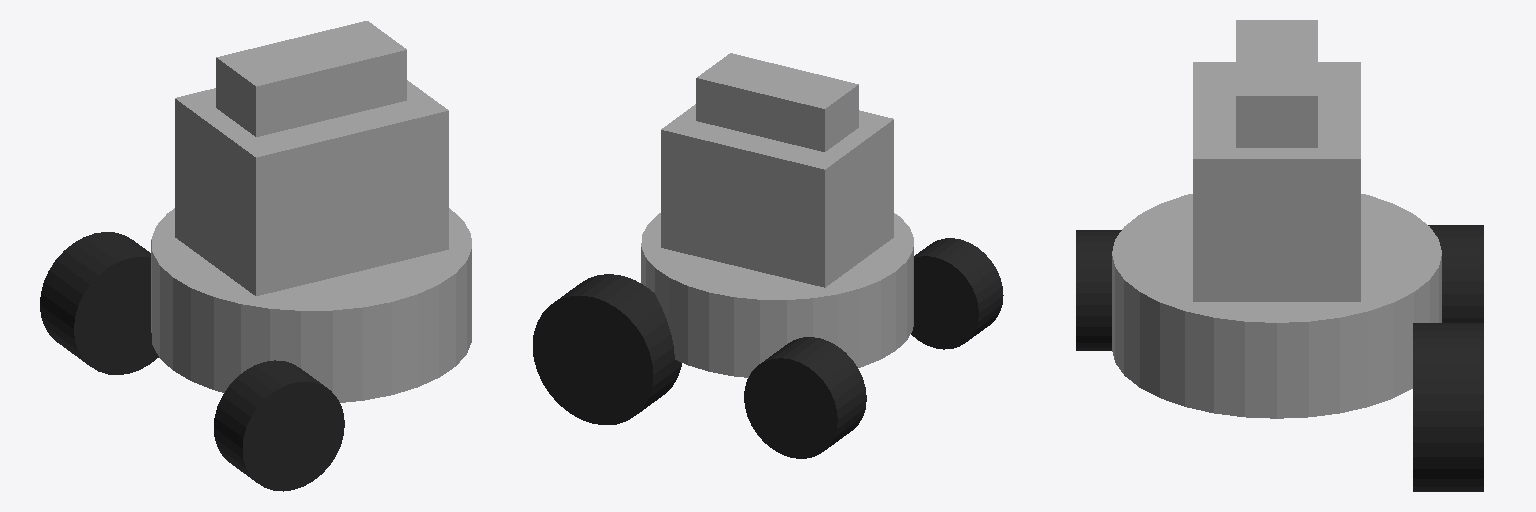
The robot description file, URDF, robot "evolved_robot":
<?xml version="1.0"?>
<robot name="evolved_robot">
  <material name="metal">
    <color rgba="0.7 0.7 0.7 1.0"/>
  </material>
  <material name="plastic">
    <color rgba="0.3 0.3 0.9 1.0"/>
  </material>
  <material name="rubber">
    <color rgba="0.1 0.1 0.1 1.0"/>
  </material>
  <material name="red">
    <color rgba="1.0 0.0 0.0 1.0"/>
  </material>
  <material name="wheel_material">
    <color rgba="0.2 0.2 0.2 1.0"/>
  </material>
  <link name="base_link">
    <visual>
      <geometry><cylinder radius="0.15991811036551018" length="0.1023509380452807"/></geometry>
      <material name="metal"/>
    </visual>
    <collision>
      <geometry><cylinder radius="0.15991811036551018" length="0.1023509380452807"/></geometry>
    </collision>
    <inertial>
      <mass value="5.0"/>
      <inertia ixx="0.07266426715614614" ixy="0" ixz="0" 
               iyy="0.07266426715614614" iyz="0" 
               izz="0.12786901011437746"/>
    </inertial>
  </link>
  <link name="link1">
    <visual>
      <geometry><box size="0.113441418210562 0.07945974443179676 0.23563188659145184"/></geometry>
      <material name="rubber"/>
    </visual>
    <collision>
      <geometry><box size="0.113441418210562 0.07945974443179676 0.23563188659145184"/></geometry>
    </collision>
    <inertial>
      <mass value="0.5"/>
      <inertia ixx="0.0051530197469844405" ixy="0" ixz="0" 
               iyy="0.0056992784453558714" iyz="0" 
               izz="0.0015985671958991738"/>
    </inertial>
  </link>
  <joint name="joint1" type="prismatic">
    <parent link="base_link"/>
    <child link="link1"/>
    <origin xyz="0 0 0.05117546902264035" rpy="0 0 0"/>
    <axis xyz="0.7413132133729508 0.48069321680617366 0.4683895291263493"/>
    <dynamics damping="0.23143663430366734" friction="0.1"/>
    <limit lower="-1.6182145099100538" upper="2.6608742781213874" effort="100" velocity="100"/>
  </joint>
  <link name="link2">
    <visual>
      <geometry><box size="0.22179826410941372 0.16207127394998422 0.20487811919291604"/></geometry>
      <material name="metal"/>
    </visual>
    <collision>
      <geometry><box size="0.22179826410941372 0.16207127394998422 0.20487811919291604"/></geometry>
    </collision>
    <inertial>
      <mass value="0.5"/>
      <inertia ixx="0.005686845130316462" ixy="0" ixz="0" 
               iyy="0.007597459473831329" iyz="0" 
               izz="0.006288463983476674"/>
    </inertial>
  </link>
  <joint name="joint2" type="floating">
    <parent link="base_link"/>
    <child link="link2"/>
    <origin xyz="0 0 0.10117546902264035" rpy="0 0 0"/>
    <axis xyz="-0.9341409314151112 0.3549378761105128 -0.03741422666669626"/>
    <dynamics damping="0.6410822183068076" friction="0.1"/>
  </joint>
  <link name="link3">
    <visual>
      <geometry>
        <cylinder radius="0.08166747481168654" length="0.06891363721656031"/>
      </geometry>
      <material name="wheel_material"/>
    </visual>
    <collision>
      <geometry>
        <cylinder radius="0.08166747481168654" length="0.06891363721656031"/>
      </geometry>
    </collision>
    <inertial>
      <mass value="1.0"/>
      <inertia ixx="0.0020631515600640043" ixy="0" ixz="0" 
               iyy="0.0020631515600640043" iyz="0" 
               izz="0.0033347882210587277"/>
    </inertial>
  </link>
  <joint name="joint3" type="continuous">
    <parent link="base_link"/>
    <child link="link3"/>
    <origin xyz="0.13346351956695493 0.16637270116406544 -0.05117546902264035" rpy="1.5708 0 0"/>
    <axis xyz="0 1 0"/>
    <dynamics damping="0.8588994804943139" friction="0.1"/>
  </joint>
  <link name="link4">
    <visual>
      <geometry>
        <cylinder radius="0.06337681127266628" length="0.06788191875677616"/>
      </geometry>
      <material name="wheel_material"/>
    </visual>
    <collision>
      <geometry>
        <cylinder radius="0.06337681127266628" length="0.06788191875677616"/>
      </geometry>
    </collision>
    <inertial>
      <mass value="1.0"/>
      <inertia ixx="0.00138815129294792" ixy="0" ixz="0" 
               iyy="0.00138815129294792" iyz="0" 
               izz="0.0020083101035455802"/>
    </inertial>
  </link>
  <joint name="joint4" type="continuous">
    <parent link="base_link"/>
    <child link="link4"/>
    <origin xyz="-0.13346351956695493 0.16637270116406544 -0.05117546902264035" rpy="1.5708 0 0"/>
    <axis xyz="0 1 0"/>
    <dynamics damping="0.6803936122012411" friction="0.1"/>
  </joint>
  <link name="link5">
    <visual>
      <geometry><box size="0.1735853947968115 0.0795026568640948 0.21633961171458604"/></geometry>
      <material name="metal"/>
    </visual>
    <collision>
      <geometry><box size="0.1735853947968115 0.0795026568640948 0.21633961171458604"/></geometry>
    </collision>
    <inertial>
      <mass value="0.5"/>
      <inertia ixx="0.004426958337105655" ixy="0" ixz="0" 
               iyy="0.006411226406965231" iyz="0" 
               izz="0.0030377134779345765"/>
    </inertial>
  </link>
  <joint name="joint5" type="fixed">
    <parent link="base_link"/>
    <child link="link5"/>
    <origin xyz="0 0 0.15117546902264034" rpy="0 0 0"/>
    <axis xyz="-0.9911563891040165 -0.04710145978600313 0.12405831219355974"/>
    <dynamics damping="0.5869721733704075" friction="0.1"/>
  </joint>
  <link name="link6">
    <visual>
      <geometry>
        <cylinder radius="0.058810175419209576" length="0.057469037743392584"/>
      </geometry>
      <material name="wheel_material"/>
    </visual>
    <collision>
      <geometry>
        <cylinder radius="0.058810175419209576" length="0.057469037743392584"/>
      </geometry>
    </collision>
    <inertial>
      <mass value="1.0"/>
      <inertia ixx="0.0011398833748055073" ixy="0" ixz="0" 
               iyy="0.0011398833748055073" iyz="0" 
               izz="0.001729318366419101"/>
    </inertial>
  </link>
  <joint name="joint6" type="continuous">
    <parent link="base_link"/>
    <child link="link6"/>
    <origin xyz="-0.13346351956695493 -0.16637270116406544 -0.05117546902264035" rpy="1.5708 0 0"/>
    <axis xyz="0 1 0"/>
    <dynamics damping="0.7100066042512578" friction="0.1"/>
  </joint>
</robot>

--- Facts derived from the render (not from the file) ---
The picture shows the robot from 3 angles, left to right: view 1: azimuth 30°, elevation 25°; view 2: azimuth 150°, elevation 25°; view 3: azimuth 270°, elevation 25°; orthographic projection.
Robot: evolved_robot — 7 links, 6 joints (3 continuous, 1 prismatic, 1 fixed, 1 floating); root link base_link; default pose: every joint at zero.
Visible links, largest first — view 1: link2, base_link, link5, link4, link6; view 2: link2, base_link, link3, link5, link4, link6; view 3: base_link, link2, link3, link5, link6, link4.
Boxes of the visible links, <box> form: link2: <box>175,80,448,295</box>; base_link: <box>151,208,471,402</box>; link5: <box>216,21,406,136</box>; link4: <box>40,232,158,374</box>; link6: <box>214,360,344,491</box>; link2: <box>661,104,893,287</box>; base_link: <box>641,213,913,377</box>; link3: <box>533,274,681,424</box>; link5: <box>696,53,858,151</box>; link4: <box>744,337,866,458</box>; link6: <box>911,238,1003,349</box>; base_link: <box>1112,194,1441,418</box>; link2: <box>1193,62,1360,301</box>; link3: <box>1413,323,1483,491</box>; link5: <box>1236,20,1317,147</box>; link6: <box>1076,230,1121,350</box>; link4: <box>1428,225,1483,322</box>.
Bounding box of the posed robot: 0.412 × 0.3959 × 0.3922 m (x, y, z).
Geometry: primitives only (box / cylinder / sphere), no mesh files.